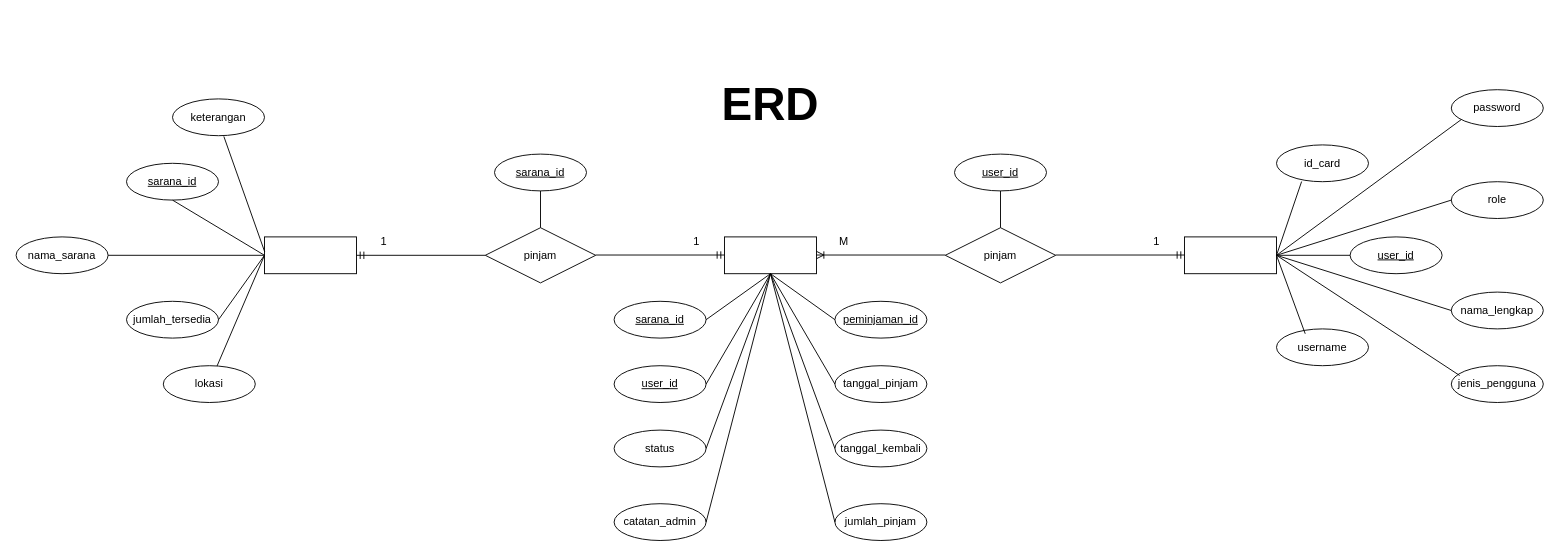
Image size: 1559x557. Some labels were removed from this diagram. Here are the shapes that lost their labels. From the top down, the centre of each, then its label:
[310,255]: sarana
[770,255]: peminjaman
[1230,255]: users
